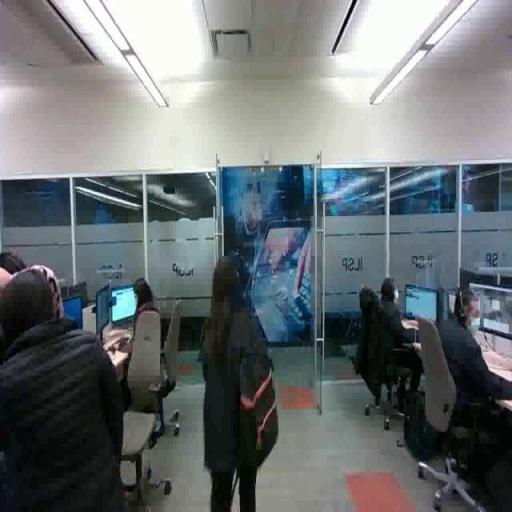person: (1, 275, 129, 512), (419, 281, 512, 511), (197, 236, 274, 512), (360, 271, 437, 428), (115, 274, 181, 430)
